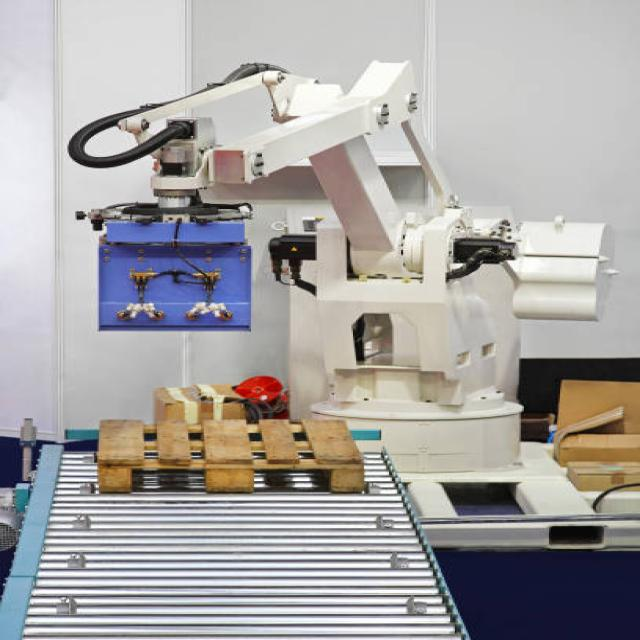Robotic-arm: (56, 55, 612, 442)
